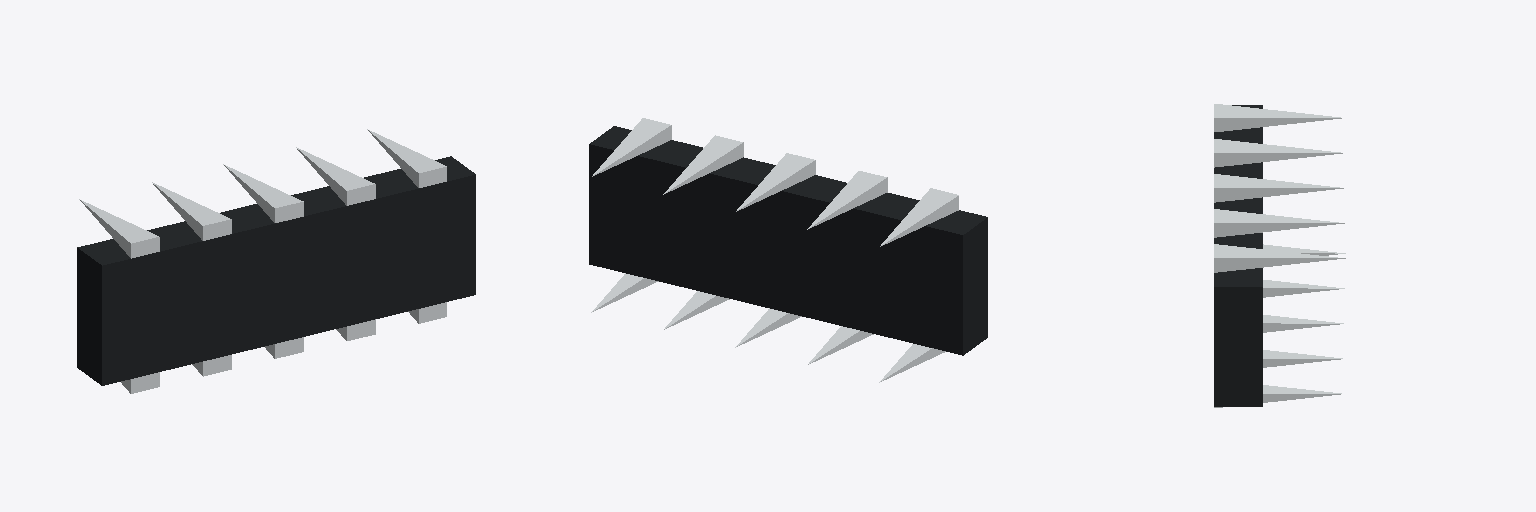
The model's file is tinker.obj.
3 views of the same model, side by side, from view 1: azimuth 30°, elevation 25°; view 2: azimuth 150°, elevation 25°; view 3: azimuth 270°, elevation 25° (orthographic).
Parts seen in each view (by area): view 1: obj_0; view 2: obj_0; view 3: obj_0.
Part boxes in pixels (bbox=[...]): obj_0: bbox=[77, 129, 475, 393]; obj_0: bbox=[589, 118, 987, 382]; obj_0: bbox=[1214, 104, 1345, 407].
Size of the model in its own units: 26 by 10 by 8.